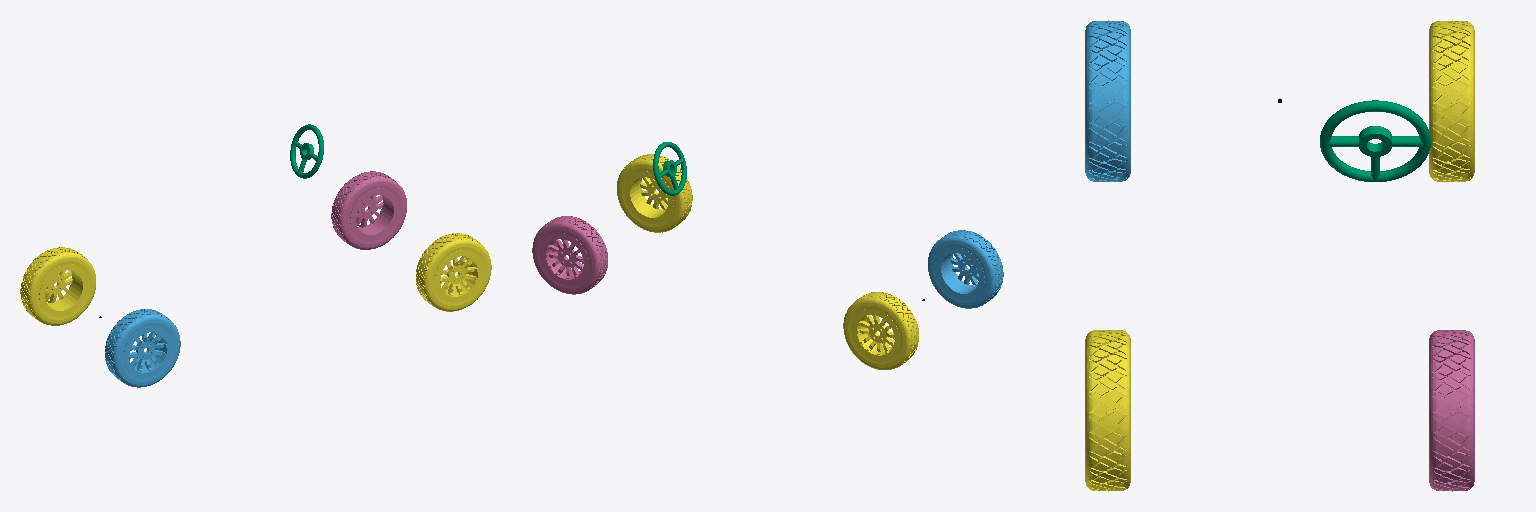
--- Render facts (derived) ---
3 views of the same robot in one strip: view 1: azimuth 30°, elevation 25°; view 2: azimuth 150°, elevation 25°; view 3: azimuth 270°, elevation 25° (orthographic).
Model apcar with 13 links and 12 joints (3 revolute, 4 continuous, 4 prismatic, 1 fixed), rooted at base_link, posed all joints at 0.
Visible links, largest first — view 1: wheel_back_left, wheel_front_right, wheel_back_right, wheel_front_left, steering_wheel; view 2: wheel_front_left, wheel_back_right, wheel_back_left, wheel_front_right, steering_wheel; view 3: wheel_front_right, wheel_back_right, wheel_front_left, wheel_back_left, steering_wheel.
Boxes of the visible links, <box> form: wheel_back_left: <box>20,247,95,325</box>; wheel_front_right: <box>416,233,491,311</box>; wheel_back_right: <box>105,309,180,387</box>; wheel_front_left: <box>331,171,406,249</box>; steering_wheel: <box>290,124,323,178</box>; wheel_front_left: <box>532,216,607,294</box>; wheel_back_right: <box>928,230,1003,308</box>; wheel_back_left: <box>843,292,918,369</box>; wheel_front_right: <box>617,154,692,232</box>; steering_wheel: <box>653,142,686,195</box>; wheel_front_right: <box>1085,330,1130,491</box>; wheel_back_right: <box>1085,20,1130,181</box>; wheel_front_left: <box>1429,330,1474,491</box>; wheel_back_left: <box>1429,20,1474,181</box>; steering_wheel: <box>1320,100,1430,181</box>.
Bounding box of the posed robot: 2.81 × 1.23 × 1.07 m (x, y, z).
Meshes: 3 distinct files referenced, 5 mesh visuals loaded (2 binary STL); not drawn: 1 (reference not matched to a file when rendering).

The robot description file, URDF, robot "apcar":
<?xml version="1.0" ?>
<!-- =================================================================================== -->
<!-- |    This document was autogenerated by xacro from [local-path]/arammis_ws/install/apcar_ros_description/share/apcar_ros_description/urdf/apcar.xacro | -->
<!-- |    EDITING THIS FILE BY HAND IS NOT RECOMMENDED                                 | -->
<!-- =================================================================================== -->
<!-- To work with Gazebo, each link must have an inertial element, even if
the link only serves to connect two joints. To be visible in Gazebo, a link
must have a collision element. Furthermore, the link must have a Gazebo
material. -->
<robot name="apcar">
  <!-- Configurable vehicle settings - modify them according to your vehicle geometry -->
  <!--
		Driving (wheel rotation):
		* effort limit [Nm] - Max motor effort at the wheels, per wheel
			= limit_reserve_multiplier * motor_output_stall_torque / 2
		* velocity limit [rad/s] - Rotational velocity limit for the wheels
			= limit_reserve_multiplier * vehicle_max_speed / wheel_tire_radius
		* damping [Nms/rad] -
		* friction [Nm] -
	-->
  <!-- Configurable vehicle settings - modify them according to your vehicle geometry -->
  <!--
		Driving (wheel rotation):
		* effort limit [Nm] - Max motor effort at the wheels, per wheel
			= limit_reserve_multiplier * motor_output_stall_torque / 2
		* velocity limit [rad/s] - Rotational velocity limit for the wheels
			= limit_reserve_multiplier * vehicle_max_speed / wheel_tire_radius
		* damping [Nms/rad] -
		* friction [Nm] -
	-->
  <material name="black">
    <color rgba="0.0 0.0 0.0 1.0"/>
  </material>
  <material name="grey">
    <color rgba="0.2 0.2 0.2 1.0"/>
  </material>
  <material name="white">
    <color rgba="1.0 1.0 1.0 1.0"/>
  </material>
  <material name="red">
    <color rgba="0.8 0.0 0.0 1.0"/>
  </material>
  <material name="green">
    <color rgba="0.0 0.8 0.0 1.0"/>
  </material>
  <material name="blue">
    <color rgba="0.0 0.0 0.8 1.0"/>
  </material>
  <material name="orange">
    <color rgba="1.0 0.43 0.04 1.0"/>
  </material>
  <material name="brown">
    <color rgba="0.87 0.81 0.76 1.0"/>
  </material>
  <!-- Base link -->
  <link name="base_link">
    <!-- base_link must have geometry so that its axes can be displayed in rviz. -->
    <visual>
      <geometry>
        <box size="0.01 0.01 0.01"/>
      </geometry>
      <material name="black"/>
    </visual>
    <inertial>
      <mass value="10"/>
      <inertia ixx="0.1" ixy="0" ixz="0" iyy="0.1" iyz="0" izz="0.1"/>
    </inertial>
    <gazebo reference="base_link">
      <material>Gazebo/Black</material>
    </gazebo>
  </link>
  <!-- <xacro:property name="vehicle_model" value="apcar" /> -->
  <link name="chassis">
    <visual>
      <origin rpy="1.5707963267948966 0 -3.141592653589793" xyz="0 0 0"/>
      <geometry>
        <mesh filename="package://apcar_ros_description/models/apcar_base.stl"/>
        <!-- <mesh filename="package://apcar_ros_description/models/apcar_simplified.stl" /> -->
      </geometry>
    </visual>
    <collision>
      <origin rpy="1.5707963267948966 0 -3.141592653589793" xyz="0 0 0"/>
      <geometry>
        <mesh filename="package://apcar_ros_description/models/apcar_simplified.stl"/>
      </geometry>
    </collision>
    <inertial>
      <mass value="650.0"/>
      <!-- <origin xyz="0 1.2 0.3" rpy="${radians(90)} 0 ${radians(-90)}" /> -->
      <origin rpy="1.5707963267948966 0 -3.141592653589793" xyz="1.0 0 0.2"/>
      <inertia ixx="600.2" ixy="0.0" ixz="0.0" iyy="227.1" iyz="0.0" izz="591.5"/>
      <!-- <inertia ixx="138.10038264" ixy="0.0" ixz="0.0" iyy="349.35091129" iyz="0.0" izz="254.49745894" /> -->
    </inertial>
  </link>
  <gazebo reference="chassis">
    <selfCollide>True</selfCollide>
    <material>Gazebo/White</material>
  </gazebo>
  <joint name="base_link_to_chassis" type="fixed">
    <parent link="base_link"/>
    <child link="chassis"/>
    <origin rpy="0 0 0" xyz="0 0 0"/>
    <axis xyz="1 0 0"/>
  </joint>
  <gazebo reference="base_link_to_chassis">
    <disableFixedJointLumping>true</disableFixedJointLumping>
  </gazebo>
  <link name="steering_wheel">
    <visual>
      <geometry>
        <mesh filename="package://apcar_ros_description/models/steering_wheel.stl" scale="0.007 0.007 0.007"/>
      </geometry>
    </visual>
    <collision>
      <geometry>
        <cylinder length="0.04" radius="0.18"/>
      </geometry>
    </collision>
    <inertial>
      <mass value="5"/>
      <inertia ixx="0.07656" ixy="0.0" ixz="0.0" iyy="0.08118" iyz="0.0" izz="0.15641"/>
    </inertial>
  </link>
  <joint name="steering_wheel_to_chassis" type="revolute">
    <parent link="chassis"/>
    <child link="steering_wheel"/>
    <origin rpy="1.2217304763960306 0 -1.5707963267948966" xyz="1.7 0.3 0.65"/>
    <axis xyz="0 0 1"/>
    <limit effort="50" lower="-6.283185307179586" upper="6.283185307179586" velocity="6.283185307179586"/>
    <dynamics damping="0.1" friction="0"/>
  </joint>
  <gazebo reference="steering_wheel_to_chassis">
    <provideFeedback>true</provideFeedback>
  </gazebo>
  <!-- ### Links ### -->
  <!-- Wheel -->
  <link name="wheel_front_right">
    <visual>
      <!-- Rotate left wheel 180degrees (lrReflect == -1) -->
      <origin rpy="3.141592653589793 0 0" xyz="0 0 -0.095"/>
      <geometry>
        <mesh filename="package://apcar_ros_description/models/apcar_wheel.stl" scale="1 1 1"/>
      </geometry>
    </visual>
    <collision name="collision_wheel_front_right">
      <origin rpy="3.141592653589793 0 0" xyz="0 0 -0.095"/>
      <geometry>
        <cylinder length="0.02" radius="0.24988162878124287"/>
      </geometry>
    </collision>
    <collision name="collision_wheel_front_right">
      <origin rpy="3.141592653589793 0 0" xyz="0 0 -0.095"/>
      <geometry>
        <cylinder length="0.03" radius="0.24973358585766042"/>
      </geometry>
    </collision>
    <collision name="collision_wheel_front_right">
      <origin rpy="3.141592653589793 0 0" xyz="0 0 -0.095"/>
      <geometry>
        <cylinder length="0.04" radius="0.2495261782047476"/>
      </geometry>
    </collision>
    <collision name="collision_wheel_front_right">
      <origin rpy="3.141592653589793 0 0" xyz="0 0 -0.095"/>
      <geometry>
        <cylinder length="0.05" radius="0.24925925763107154"/>
      </geometry>
    </collision>
    <collision name="collision_wheel_front_right">
      <origin rpy="3.141592653589793 0 0" xyz="0 0 -0.095"/>
      <geometry>
        <cylinder length="0.060000000000000005" radius="0.2489326326966832"/>
      </geometry>
    </collision>
    <collision name="collision_wheel_front_right">
      <origin rpy="3.141592653589793 0 0" xyz="0 0 -0.095"/>
      <geometry>
        <cylinder length="0.07" radius="0.2485460680215925"/>
      </geometry>
    </collision>
    <collision name="collision_wheel_front_right">
      <origin rpy="3.141592653589793 0 0" xyz="0 0 -0.095"/>
      <geometry>
        <cylinder length="0.08" radius="0.24809928342877133"/>
      </geometry>
    </collision>
    <collision name="collision_wheel_front_right">
      <origin rpy="3.141592653589793 0 0" xyz="0 0 -0.095"/>
      <geometry>
        <cylinder length="0.09" radius="0.24759195291432431"/>
      </geometry>
    </collision>
    <collision name="collision_wheel_front_right">
      <origin rpy="3.141592653589793 0 0" xyz="0 0 -0.095"/>
      <geometry>
        <cylinder length="0.09999999999999999" radius="0.24702370343586785"/>
      </geometry>
    </collision>
    <collision name="collision_wheel_front_right">
      <origin rpy="3.141592653589793 0 0" xyz="0 0 -0.095"/>
      <geometry>
        <cylinder length="0.10999999999999999" radius="0.24639411350841486"/>
      </geometry>
    </collision>
    <collision name="collision_wheel_front_right">
      <origin rpy="3.141592653589793 0 0" xyz="0 0 -0.095"/>
      <geometry>
        <cylinder length="0.11999999999999998" radius="0.24570271159514517"/>
      </geometry>
    </collision>
    <collision name="collision_wheel_front_right">
      <origin rpy="3.141592653589793 0 0" xyz="0 0 -0.095"/>
      <geometry>
        <cylinder length="0.12999999999999998" radius="0.2449489742783178"/>
      </geometry>
    </collision>
    <collision name="collision_wheel_front_right">
      <origin rpy="3.141592653589793 0 0" xyz="0 0 -0.095"/>
      <geometry>
        <cylinder length="0.13999999999999999" radius="0.24413232419320535"/>
      </geometry>
    </collision>
    <collision name="collision_wheel_front_right">
      <origin rpy="3.141592653589793 0 0" xyz="0 0 -0.095"/>
      <geometry>
        <cylinder length="0.15" radius="0.24325212770525995"/>
      </geometry>
    </collision>
    <collision name="collision_wheel_front_right">
      <origin rpy="3.141592653589793 0 0" xyz="0 0 -0.095"/>
      <geometry>
        <cylinder length="0.16" radius="0.24230769230769228"/>
      </geometry>
    </collision>
    <collision name="collision_wheel_front_right">
      <origin rpy="3.141592653589793 0 0" xyz="0 0 -0.095"/>
      <geometry>
        <cylinder length="0.17" radius="0.24129826371320184"/>
      </geometry>
    </collision>
    <collision name="collision_wheel_front_right">
      <origin rpy="3.141592653589793 0 0" xyz="0 0 -0.095"/>
      <geometry>
        <cylinder length="0.18000000000000002" radius="0.2402230226096491"/>
      </geometry>
    </collision>
    <inertial>
      <mass value="14"/>
      <origin rpy="3.141592653589793 0 0" xyz="0 0 -0.095"/>
      <inertia ixx="0.26086666666666664" ixy="0" ixz="0" iyy="0.26086666666666664" iyz="0" izz="0.4375"/>
    </inertial>
  </link>
  <!-- Wheel knuckle -->
  <link name="wheel_knuckle_front_right">
    <inertial>
      <mass value="10"/>
      <inertia ixx="0.1" ixy="0" ixz="0" iyy="0.1" iyz="0" izz="0.1"/>
    </inertial>
  </link>
  <link name="steering_link_front_right">
    <inertial>
      <mass value="10"/>
      <inertia ixx="0.1" ixy="0" ixz="0" iyy="0.1" iyz="0" izz="0.1"/>
    </inertial>
  </link>
  <!-- ### Joints ### -->
  <!-- Shock <-> chassis (suspension) -->
  <joint name="shock_absorber_front_right" type="prismatic">
    <parent link="chassis"/>
    <child link="steering_link_front_right"/>
    <origin rpy="0 0 1.5707963267948966" xyz="      2.3      -0.4650000000000001      0.0     "/>
    <axis xyz="0 0 1"/>
    <limit effort="2000.0" lower="-0.15" upper="0.15" velocity="10.0"/>
    <dynamics damping="2000.0" friction="50.0"/>
  </joint>
  <joint name="steering_joint_front_right" type="revolute">
    <parent link="steering_link_front_right"/>
    <child link="wheel_knuckle_front_right"/>
    <axis xyz="0 0 -1"/>
    <limit effort="500.0" lower="-0.3490658503988659" upper="0.3490658503988659" velocity="0.5235987755982988"/>
  </joint>
  <gazebo reference="steering_joint_front_right">
    <provideFeedback>true</provideFeedback>
  </gazebo>
  <!-- Wheel <-> wheel knuckle (main wheel rotation joint) -->
  <joint name="axle_front_right" type="continuous">
    <!-- The left and right axles have the same axis so that identical rotation
				values cause the wheels to rotate in the same direction. -->
    <parent link="wheel_knuckle_front_right"/>
    <child link="wheel_front_right"/>
    <origin rpy="0 1.5707963267948966 0" xyz="0.02 0 0"/>
    <axis xyz="0 0 1"/>
    <limit effort="375.0" velocity="150.0"/>
    <dynamics damping="0.5" friction="0.5"/>
  </joint>
  <!-- Gazebo settings -->
  <gazebo reference="wheel_front_right">
    <selfCollide>True</selfCollide>
    <material>Gazebo/Black</material>
  </gazebo>
  <gazebo reference="shock_absorber_front_right">
    <provideFeedback>true</provideFeedback>
    <implicitSpringDamper>true</implicitSpringDamper>
    <springStiffness>
      
					12000.0
				
    </springStiffness>
    <springReference>-0.15</springReference>
  </gazebo>
  <gazebo reference="axle_front_right">
    <provideFeedback>true</provideFeedback>
  </gazebo>
  <gazebo reference="steering_joint_front_right">
    <provideFeedback>true</provideFeedback>
  </gazebo>
  <!-- Gazebo plugins -->
  <gazebo>
    <plugin filename="libTireFrictionPlugin.so" name="tire_friction_front_right">
      <link_name>wheel_front_right</link_name>
      <friction_static>1.1550000000000002</friction_static>
      <friction_dynamic>1.1</friction_dynamic>
      <slip_dynamic>0.03</slip_dynamic>
      <slip_static>0.02</slip_static>
      <speed_static>1.0</speed_static>
    </plugin>
  </gazebo>
  <!-- ### Links ### -->
  <!-- Wheel -->
  <link name="wheel_front_left">
    <visual>
      <!-- Rotate left wheel 180degrees (lrReflect == -1) -->
      <origin rpy="0.0 0 0" xyz="0 0 0.095"/>
      <geometry>
        <mesh filename="package://apcar_ros_description/models/apcar_wheel.stl" scale="1 1 1"/>
      </geometry>
    </visual>
    <collision name="collision_wheel_front_left">
      <origin rpy="0.0 0 0" xyz="0 0 0.095"/>
      <geometry>
        <cylinder length="0.02" radius="0.24988162878124287"/>
      </geometry>
    </collision>
    <collision name="collision_wheel_front_left">
      <origin rpy="0.0 0 0" xyz="0 0 0.095"/>
      <geometry>
        <cylinder length="0.03" radius="0.24973358585766042"/>
      </geometry>
    </collision>
    <collision name="collision_wheel_front_left">
      <origin rpy="0.0 0 0" xyz="0 0 0.095"/>
      <geometry>
        <cylinder length="0.04" radius="0.2495261782047476"/>
      </geometry>
    </collision>
    <collision name="collision_wheel_front_left">
      <origin rpy="0.0 0 0" xyz="0 0 0.095"/>
      <geometry>
        <cylinder length="0.05" radius="0.24925925763107154"/>
      </geometry>
    </collision>
    <collision name="collision_wheel_front_left">
      <origin rpy="0.0 0 0" xyz="0 0 0.095"/>
      <geometry>
        <cylinder length="0.060000000000000005" radius="0.2489326326966832"/>
      </geometry>
    </collision>
    <collision name="collision_wheel_front_left">
      <origin rpy="0.0 0 0" xyz="0 0 0.095"/>
      <geometry>
        <cylinder length="0.07" radius="0.2485460680215925"/>
      </geometry>
    </collision>
    <collision name="collision_wheel_front_left">
      <origin rpy="0.0 0 0" xyz="0 0 0.095"/>
      <geometry>
        <cylinder length="0.08" radius="0.24809928342877133"/>
      </geometry>
    </collision>
    <collision name="collision_wheel_front_left">
      <origin rpy="0.0 0 0" xyz="0 0 0.095"/>
      <geometry>
        <cylinder length="0.09" radius="0.24759195291432431"/>
      </geometry>
    </collision>
    <collision name="collision_wheel_front_left">
      <origin rpy="0.0 0 0" xyz="0 0 0.095"/>
      <geometry>
        <cylinder length="0.09999999999999999" radius="0.24702370343586785"/>
      </geometry>
    </collision>
    <collision name="collision_wheel_front_left">
      <origin rpy="0.0 0 0" xyz="0 0 0.095"/>
      <geometry>
        <cylinder length="0.10999999999999999" radius="0.24639411350841486"/>
      </geometry>
    </collision>
    <collision name="collision_wheel_front_left">
      <origin rpy="0.0 0 0" xyz="0 0 0.095"/>
      <geometry>
        <cylinder length="0.11999999999999998" radius="0.24570271159514517"/>
      </geometry>
    </collision>
    <collision name="collision_wheel_front_left">
      <origin rpy="0.0 0 0" xyz="0 0 0.095"/>
      <geometry>
        <cylinder length="0.12999999999999998" radius="0.2449489742783178"/>
      </geometry>
    </collision>
    <collision name="collision_wheel_front_left">
      <origin rpy="0.0 0 0" xyz="0 0 0.095"/>
      <geometry>
        <cylinder length="0.13999999999999999" radius="0.24413232419320535"/>
      </geometry>
    </collision>
    <collision name="collision_wheel_front_left">
      <origin rpy="0.0 0 0" xyz="0 0 0.095"/>
      <geometry>
        <cylinder length="0.15" radius="0.24325212770525995"/>
      </geometry>
    </collision>
    <collision name="collision_wheel_front_left">
      <origin rpy="0.0 0 0" xyz="0 0 0.095"/>
      <geometry>
        <cylinder length="0.16" radius="0.24230769230769228"/>
      </geometry>
    </collision>
    <collision name="collision_wheel_front_left">
      <origin rpy="0.0 0 0" xyz="0 0 0.095"/>
      <geometry>
        <cylinder length="0.17" radius="0.24129826371320184"/>
      </geometry>
    </collision>
    <collision name="collision_wheel_front_left">
      <origin rpy="0.0 0 0" xyz="0 0 0.095"/>
      <geometry>
        <cylinder length="0.18000000000000002" radius="0.2402230226096491"/>
      </geometry>
    </collision>
    <inertial>
      <mass value="14"/>
      <origin rpy="0.0 0 0" xyz="0 0 0.095"/>
      <inertia ixx="0.26086666666666664" ixy="0" ixz="0" iyy="0.26086666666666664" iyz="0" izz="0.4375"/>
    </inertial>
  </link>
  <!-- Wheel knuckle -->
  <link name="wheel_knuckle_front_left">
    <inertial>
      <mass value="10"/>
      <inertia ixx="0.1" ixy="0" ixz="0" iyy="0.1" iyz="0" izz="0.1"/>
    </inertial>
  </link>
  <link name="steering_link_front_left">
    <inertial>
      <mass value="10"/>
      <inertia ixx="0.1" ixy="0" ixz="0" iyy="0.1" iyz="0" izz="0.1"/>
    </inertial>
  </link>
  <!-- ### Joints ### -->
  <!-- Shock <-> chassis (suspension) -->
  <joint name="shock_absorber_front_left" type="prismatic">
    <parent link="chassis"/>
    <child link="steering_link_front_left"/>
    <origin rpy="0 0 1.5707963267948966" xyz="      2.3      0.4650000000000001      0.0     "/>
    <axis xyz="0 0 1"/>
    <limit effort="2000.0" lower="-0.15" upper="0.15" velocity="10.0"/>
    <dynamics damping="2000.0" friction="50.0"/>
  </joint>
  <joint name="steering_joint_front_left" type="revolute">
    <parent link="steering_link_front_left"/>
    <child link="wheel_knuckle_front_left"/>
    <axis xyz="0 0 -1"/>
    <limit effort="500.0" lower="-0.3490658503988659" upper="0.3490658503988659" velocity="0.5235987755982988"/>
  </joint>
  <gazebo reference="steering_joint_front_left">
    <provideFeedback>true</provideFeedback>
  </gazebo>
  <!-- Wheel <-> wheel knuckle (main wheel rotation joint) -->
  <joint name="axle_front_left" type="continuous">
    <!-- The left and right axles have the same axis so that identical rotation
				values cause the wheels to rotate in the same direction. -->
    <parent link="wheel_knuckle_front_left"/>
    <child link="wheel_front_left"/>
    <origin rpy="0 1.5707963267948966 0" xyz="-0.02 0 0"/>
    <axis xyz="0 0 1"/>
    <limit effort="375.0" velocity="150.0"/>
    <dynamics damping="0.5" friction="0.5"/>
  </joint>
  <!-- Gazebo settings -->
  <gazebo reference="wheel_front_left">
    <selfCollide>True</selfCollide>
    <material>Gazebo/Black</material>
  </gazebo>
  <gazebo reference="shock_absorber_front_left">
    <provideFeedback>true</provideFeedback>
    <implicitSpringDamper>true</implicitSpringDamper>
    <springStiffness>
      
					12000.0
				
    </springStiffness>
    <springReference>-0.15</springReference>
  </gazebo>
  <gazebo reference="axle_front_left">
    <provideFeedback>true</provideFeedback>
  </gazebo>
  <gazebo reference="steering_joint_front_left">
    <provideFeedback>true</provideFeedback>
  </gazebo>
  <!-- Gazebo plugins -->
  <gazebo>
    <plugin filename="libTireFrictionPlugin.so" name="tire_friction_front_left">
      <link_name>wheel_front_left</link_name>
      <friction_static>1.1550000000000002</friction_static>
      <friction_dynamic>1.1</friction_dynamic>
      <slip_dynamic>0.03</slip_dynamic>
      <slip_static>0.02</slip_static>
      <speed_static>1.0</speed_static>
    </plugin>
  </gazebo>
  <!-- ### Links ### -->
  <!-- Wheel -->
  <link name="wheel_back_right">
    <visual>
      <!-- Rotate left wheel 180degrees (lrReflect == -1) -->
      <origin rpy="3.141592653589793 0 0" xyz="0 0 -0.095"/>
      <geometry>
        <mesh filename="package://apcar_ros_description/models/apcar_wheel.stl" scale="1 1 1"/>
      </geometry>
    </visual>
    <collision name="collision_wheel_back_right">
      <origin rpy="3.141592653589793 0 0" xyz="0 0 -0.095"/>
      <geometry>
        <cylinder length="0.02" radius="0.24988162878124287"/>
      </geometry>
    </collision>
    <collision name="collision_wheel_back_right">
      <origin rpy="3.141592653589793 0 0" xyz="0 0 -0.095"/>
      <geometry>
        <cylinder length="0.03" radius="0.24973358585766042"/>
      </geometry>
    </collision>
    <collision name="collision_wheel_back_right">
      <origin rpy="3.141592653589793 0 0" xyz="0 0 -0.095"/>
      <geometry>
        <cylinder length="0.04" radius="0.2495261782047476"/>
      </geometry>
    </collision>
    <collision name="collision_wheel_back_right">
      <origin rpy="3.141592653589793 0 0" xyz="0 0 -0.095"/>
      <geometry>
        <cylinder length="0.05" radius="0.24925925763107154"/>
      </geometry>
    </collision>
    <collision name="collision_wheel_back_right">
      <origin rpy="3.141592653589793 0 0" xyz="0 0 -0.095"/>
      <geometry>
        <cylinder length="0.060000000000000005" radius="0.2489326326966832"/>
      </geometry>
    </collision>
    <collision name="collision_wheel_back_right">
      <origin rpy="3.141592653589793 0 0" xyz="0 0 -0.095"/>
      <geometry>
        <cylinder length="0.07" radius="0.2485460680215925"/>
      </geometry>
    </collision>
    <collision name="collision_wheel_back_right">
      <origin rpy="3.141592653589793 0 0" xyz="0 0 -0.095"/>
      <geometry>
        <cylinder length="0.08" radius="0.24809928342877133"/>
      </geometry>
    </collision>
    <collision name="collision_wheel_back_right">
      <origin rpy="3.141592653589793 0 0" xyz="0 0 -0.095"/>
      <geometry>
        <cylinder length="0.09" radius="0.24759195291432431"/>
      </geometry>
    </collision>
    <collision name="collision_wheel_back_right">
      <origin rpy="3.141592653589793 0 0" xyz="0 0 -0.095"/>
      <geometry>
        <cylinder length="0.09999999999999999" radius="0.24702370343586785"/>
      </geometry>
    </collision>
    <collision name="collision_wheel_back_right">
      <origin rpy="3.141592653589793 0 0" xyz="0 0 -0.095"/>
      <geometry>
        <cylinder length="0.10999999999999999" radius="0.24639411350841486"/>
      </geometry>
    </collision>
    <collision name="collision_wheel_back_right">
      <origin rpy="3.141592653589793 0 0" xyz="0 0 -0.095"/>
      <geometry>
        <cylinder length="0.11999999999999998" radius="0.24570271159514517"/>
      </geometry>
    </collision>
    <collision name="collision_wheel_back_right">
      <origin rpy="3.141592653589793 0 0" xyz="0 0 -0.095"/>
      <geometry>
        <cylinder length="0.12999999999999998" radius="0.2449489742783178"/>
      </geometry>
    </collision>
    <collision name="collision_wheel_back_right">
      <origin rpy="3.141592653589793 0 0" xyz="0 0 -0.095"/>
      <geometry>
        <cylinder length="0.13999999999999999" radius="0.24413232419320535"/>
      </geometry>
    </collision>
    <collision name="collision_wheel_back_right">
      <origin rpy="3.141592653589793 0 0" xyz="0 0 -0.095"/>
      <geometry>
        <cylinder length="0.15" radius="0.24325212770525995"/>
      </geometry>
    </collision>
    <collision name="collision_wheel_back_right">
      <origin rpy="3.141592653589793 0 0" xyz="0 0 -0.095"/>
      <geometry>
        <cylinder length="0.16" radius="0.24230769230769228"/>
      </geometry>
    </collision>
    <collision name="collision_wheel_back_right">
      <origin rpy="3.141592653589793 0 0" xyz="0 0 -0.095"/>
      <geometry>
        <cylinder length="0.17" radius="0.24129826371320184"/>
      </geometry>
    </collision>
    <collision name="collision_wheel_back_right">
      <origin rpy="3.141592653589793 0 0" xyz="0 0 -0.095"/>
      <geometry>
        <cylinder length="0.18000000000000002" radius="0.2402230226096491"/>
      </geometry>
    </collision>
    <inertial>
      <mass value="14"/>
      <origin rpy="3.141592653589793 0 0" xyz="0 0 -0.095"/>
      <inertia ixx="0.26086666666666664" ixy="0" ixz="0" iyy="0.26086666666666664" iyz="0" izz="0.4375"/>
    </inertial>
  </link>
  <!-- Wheel knuckle -->
  <link name="wheel_knuckle_back_right">
    <inertial>
      <mass value="10"/>
      <inertia ixx="0.1" ixy="0" ixz="0" iyy="0.1" iyz="0" izz="0.1"/>
    </inertial>
  </link>
  <!-- ### Joints ### -->
  <!-- Shock <-> chassis (suspension) -->
  <joint name="shock_absorber_back_right" type="prismatic">
    <parent link="chassis"/>
    <child link="wheel_knuckle_back_right"/>
    <origin rpy="0 0 1.5707963267948966" xyz="      0.0      -0.4650000000000001      0.0     "/>
    <axis xyz="0 0 1"/>
    <limit effort="2000.0" lower="-0.15" upper="0.15" velocity="10.0"/>
    <dynamics damping="2000.0" friction="50.0"/>
  </joint>
  <!-- Wheel <-> wheel knuckle (main wheel rotation joint) -->
  <joint name="axle_back_right" type="continuous">
    <!-- The left and right axles have the same axis so that identical rotation
				values cause the wheels to rotate in the same direction. -->
    <parent link="wheel_knuckle_back_right"/>
    <child link="wheel_back_right"/>
    <origin rpy="0 1.5707963267948966 0" xyz="0.02 0 0"/>
    <axis xyz="0 0 1"/>
    <limit effort="375.0" velocity="150.0"/>
    <dynamics damping="0.5" friction="0.5"/>
  </joint>
  <!-- Gazebo settings -->
  <gazebo reference="wheel_back_right">
    <selfCollide>True</selfCollide>
    <material>Gazebo/Black</material>
  </gazebo>
  <gazebo reference="shock_absorber_back_right">
    <provideFeedback>true</provideFeedback>
    <implicitSpringDamper>true</implicitSpringDamper>
    <springStiffness>
      
					14000.0
				
    </springStiffness>
    <springReference>-0.15</springReference>
  </gazebo>
  <gazebo reference="axle_back_right">
    <provideFeedback>true</provideFeedback>
  </gazebo>
  <!-- Gazebo plugins -->
  <gazebo>
    <plugin filename="libTireFrictionPlugin.so" name="tire_friction_back_right">
      <link_name>wheel_back_right</link_name>
      <friction_static>1.1550000000000002</friction_static>
      <friction_dynamic>1.1</friction_dynamic>
      <slip_dynamic>0.03</slip_dynamic>
      <slip_static>0.02</slip_static>
      <speed_static>1.0</speed_static>
    </plugin>
  </gazebo>
  <!-- ### Links ### -->
  <!-- Wheel -->
  <link name="wheel_back_left">
    <visual>
      <!-- Rotate left wheel 180degrees (lrReflect == -1) -->
      <origin rpy="0.0 0 0" xyz="0 0 0.095"/>
      <geometry>
        <mesh filename="package://apcar_ros_description/models/apcar_wheel.stl" scale="1 1 1"/>
      </geometry>
    </visual>
    <collision name="collision_wheel_back_left">
      <origin rpy="0.0 0 0" xyz="0 0 0.095"/>
      <geometry>
        <cylinder length="0.02" radius="0.24988162878124287"/>
      </geometry>
    </collision>
    <collision name="collision_wheel_back_left">
      <origin rpy="0.0 0 0" xyz="0 0 0.095"/>
      <geometry>
        <cylinder length="0.03" radius="0.24973358585766042"/>
      </geometry>
    </collision>
    <collision name="collision_wheel_back_left">
      <origin rpy="0.0 0 0" xyz="0 0 0.095"/>
      <geometry>
        <cylinder length="0.04" radius="0.2495261782047476"/>
      </geometry>
    </collision>
    <collision name="collision_wheel_back_left">
      <origin rpy="0.0 0 0" xyz="0 0 0.095"/>
      <geometry>
        <cylinder length="0.05" radius="0.24925925763107154"/>
      </geometry>
    </collision>
    <collision name="collision_wheel_back_left">
      <origin rpy="0.0 0 0" xyz="0 0 0.095"/>
      <geometry>
        <cylinder length="0.060000000000000005" radius="0.2489326326966832"/>
      </geometry>
    </collision>
    <collision name="collision_wheel_back_left">
      <origin rpy="0.0 0 0" xyz="0 0 0.095"/>
      <geometry>
        <cylinder length="0.07" radius="0.2485460680215925"/>
      </geometry>
    </collision>
    <collision name="collision_wheel_back_left">
      <origin rpy="0.0 0 0" xyz="0 0 0.095"/>
      <geometry>
        <cylinder length="0.08" radius="0.24809928342877133"/>
      </geometry>
    </collision>
    <collision name="collision_wheel_back_left">
      <origin rpy="0.0 0 0" xyz="0 0 0.095"/>
      <geometry>
        <cylinder length="0.09" radius="0.24759195291432431"/>
      </geometry>
    </collision>
    <collision name="collision_wheel_back_left">
      <origin rpy="0.0 0 0" xyz="0 0 0.095"/>
      <geometry>
        <cylinder length="0.09999999999999999" radius="0.24702370343586785"/>
      </geometry>
    </collision>
    <collision name="collision_wheel_back_left">
      <origin rpy="0.0 0 0" xyz="0 0 0.095"/>
      <geometry>
        <cylinder length="0.10999999999999999" radius="0.24639411350841486"/>
      </geometry>
    </collision>
    <collision name="collision_wheel_back_left">
      <origin rpy="0.0 0 0" xyz="0 0 0.095"/>
      <geometry>
        <cylinder length="0.11999999999999998" radius="0.24570271159514517"/>
      </geometry>
    </collision>
    <collision name="collision_wheel_back_left">
      <origin rpy="0.0 0 0" xyz="0 0 0.095"/>
      <geometry>
        <cylinder length="0.12999999999999998" radius="0.2449489742783178"/>
      </geometry>
    </collision>
    <collision name="collision_wheel_back_left">
      <origin rpy="0.0 0 0" xyz="0 0 0.095"/>
      <geometry>
        <cylinder length="0.13999999999999999" radius="0.24413232419320535"/>
      </geometry>
    </collision>
    <collision name="collision_wheel_back_left">
      <origin rpy="0.0 0 0" xyz="0 0 0.095"/>
      <geometry>
        <cylinder length="0.15" radius="0.24325212770525995"/>
      </geometry>
    </collision>
    <collision name="collision_wheel_back_left">
      <origin rpy="0.0 0 0" xyz="0 0 0.095"/>
      <geometry>
        <cylinder length="0.16" radius="0.24230769230769228"/>
      </geometry>
    </collision>
    <collision name="collision_wheel_back_left">
      <origin rpy="0.0 0 0" xyz="0 0 0.095"/>
      <geometry>
        <cylinder length="0.17" radius="0.24129826371320184"/>
      </geometry>
    </collision>
    <collision name="collision_wheel_back_left">
      <origin rpy="0.0 0 0" xyz="0 0 0.095"/>
      <geometry>
        <cylinder length="0.18000000000000002" radius="0.2402230226096491"/>
      </geometry>
    </collision>
    <inertial>
      <mass value="14"/>
      <origin rpy="0.0 0 0" xyz="0 0 0.095"/>
      <inertia ixx="0.26086666666666664" ixy="0" ixz="0" iyy="0.26086666666666664" iyz="0" izz="0.4375"/>
    </inertial>
  </link>
  <!-- Wheel knuckle -->
  <link name="wheel_knuckle_back_left">
    <inertial>
      <mass value="10"/>
      <inertia ixx="0.1" ixy="0" ixz="0" iyy="0.1" iyz="0" izz="0.1"/>
    </inertial>
  </link>
  <!-- ### Joints ### -->
  <!-- Shock <-> chassis (suspension) -->
  <joint name="shock_absorber_back_left" type="prismatic">
    <parent link="chassis"/>
    <child link="wheel_knuckle_back_left"/>
    <origin rpy="0 0 1.5707963267948966" xyz="      0.0      0.4650000000000001      0.0     "/>
    <axis xyz="0 0 1"/>
    <limit effort="2000.0" lower="-0.15" upper="0.15" velocity="10.0"/>
    <dynamics damping="2000.0" friction="50.0"/>
  </joint>
  <!-- Wheel <-> wheel knuckle (main wheel rotation joint) -->
  <joint name="axle_back_left" type="continuous">
    <!-- The left and right axles have the same axis so that identical rotation
				values cause the wheels to rotate in the same direction. -->
    <parent link="wheel_knuckle_back_left"/>
    <child link="wheel_back_left"/>
    <origin rpy="0 1.5707963267948966 0" xyz="-0.02 0 0"/>
    <axis xyz="0 0 1"/>
    <limit effort="375.0" velocity="150.0"/>
    <dynamics damping="0.5" friction="0.5"/>
  </joint>
  <!-- Gazebo settings -->
  <gazebo reference="wheel_back_left">
    <selfCollide>True</selfCollide>
    <material>Gazebo/Black</material>
  </gazebo>
  <gazebo reference="shock_absorber_back_left">
    <provideFeedback>true</provideFeedback>
    <implicitSpringDamper>true</implicitSpringDamper>
    <springStiffness>
      
					14000.0
				
    </springStiffness>
    <springReference>-0.15</springReference>
  </gazebo>
  <gazebo reference="axle_back_left">
    <provideFeedback>true</provideFeedback>
  </gazebo>
  <!-- Gazebo plugins -->
  <gazebo>
    <plugin filename="libTireFrictionPlugin.so" name="tire_friction_back_left">
      <link_name>wheel_back_left</link_name>
      <friction_static>1.1550000000000002</friction_static>
      <friction_dynamic>1.1</friction_dynamic>
      <slip_dynamic>0.03</slip_dynamic>
      <slip_static>0.02</slip_static>
      <speed_static>1.0</speed_static>
    </plugin>
  </gazebo>
</robot>
